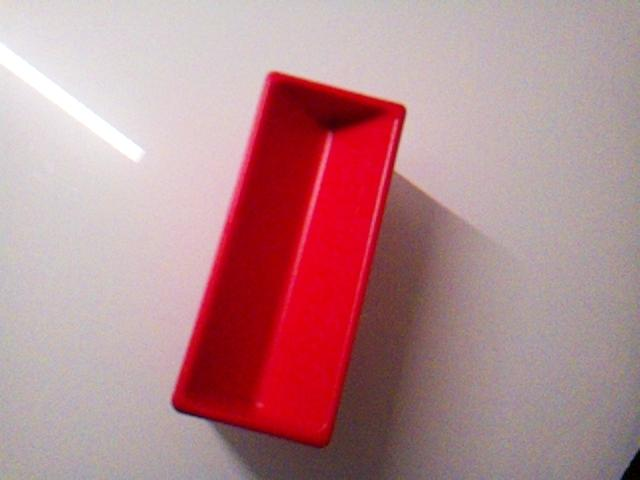red: (171, 69, 408, 449)
